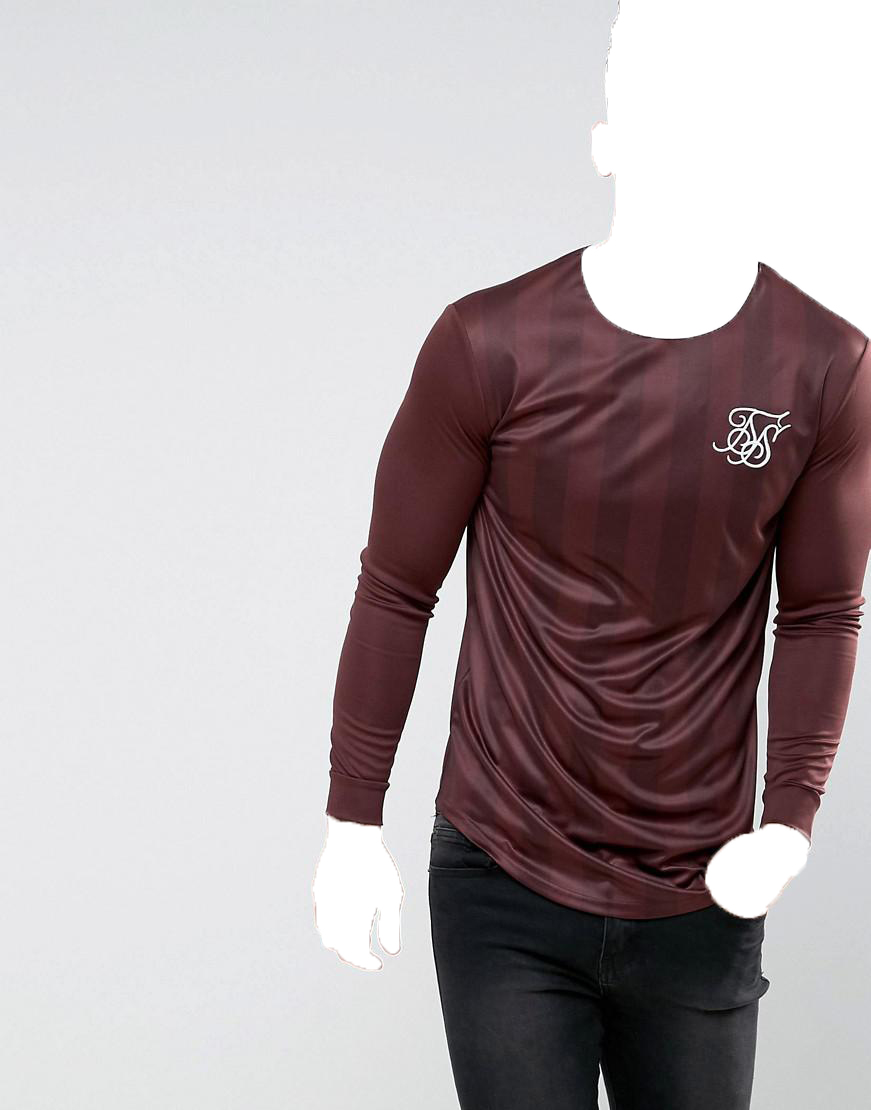teeshirt: (327, 246, 869, 918)
